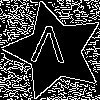V: (29, 25, 67, 72)
